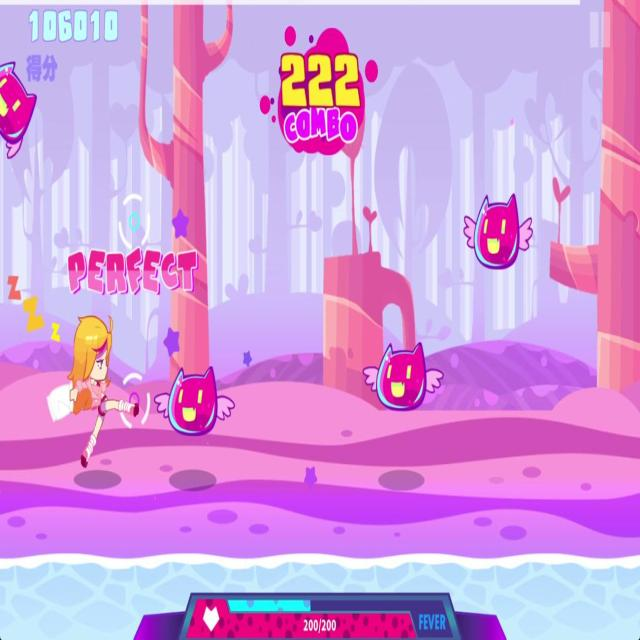mao: (152, 360, 238, 439), (461, 183, 535, 272), (362, 336, 444, 412), (0, 58, 40, 164)
